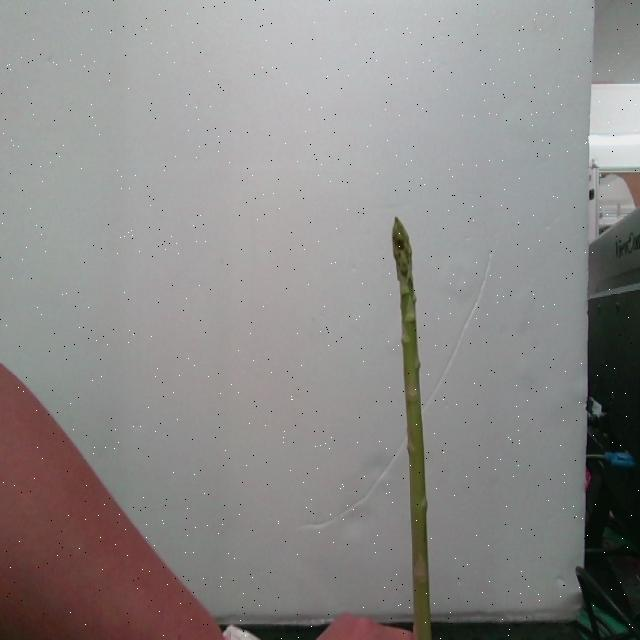aspargus: (390, 219, 431, 640)
